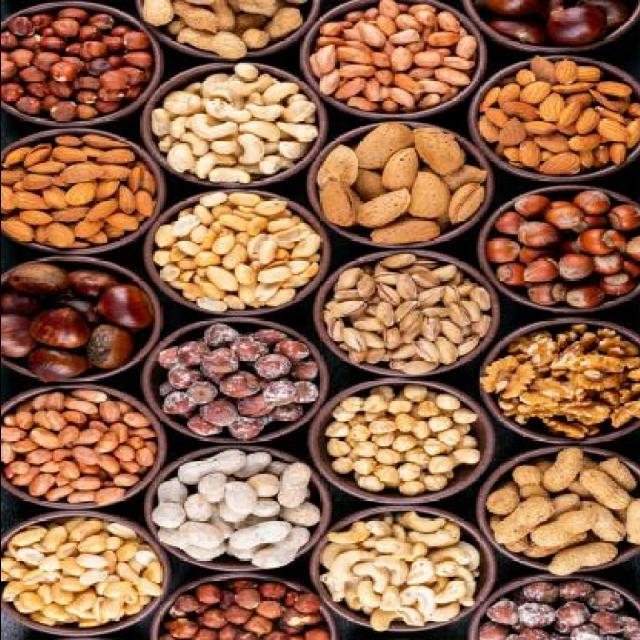Frutta secca: (150, 446, 314, 570), (162, 190, 324, 312), (1, 514, 167, 632), (327, 250, 482, 372), (324, 380, 484, 498), (163, 66, 320, 186), (486, 450, 636, 573), (321, 122, 477, 240), (8, 126, 154, 252), (488, 188, 638, 310), (322, 513, 486, 622), (5, 260, 153, 380), (156, 324, 314, 436), (491, 320, 635, 442), (6, 389, 150, 508), (314, 3, 472, 111), (481, 58, 628, 174), (8, 9, 148, 123)
